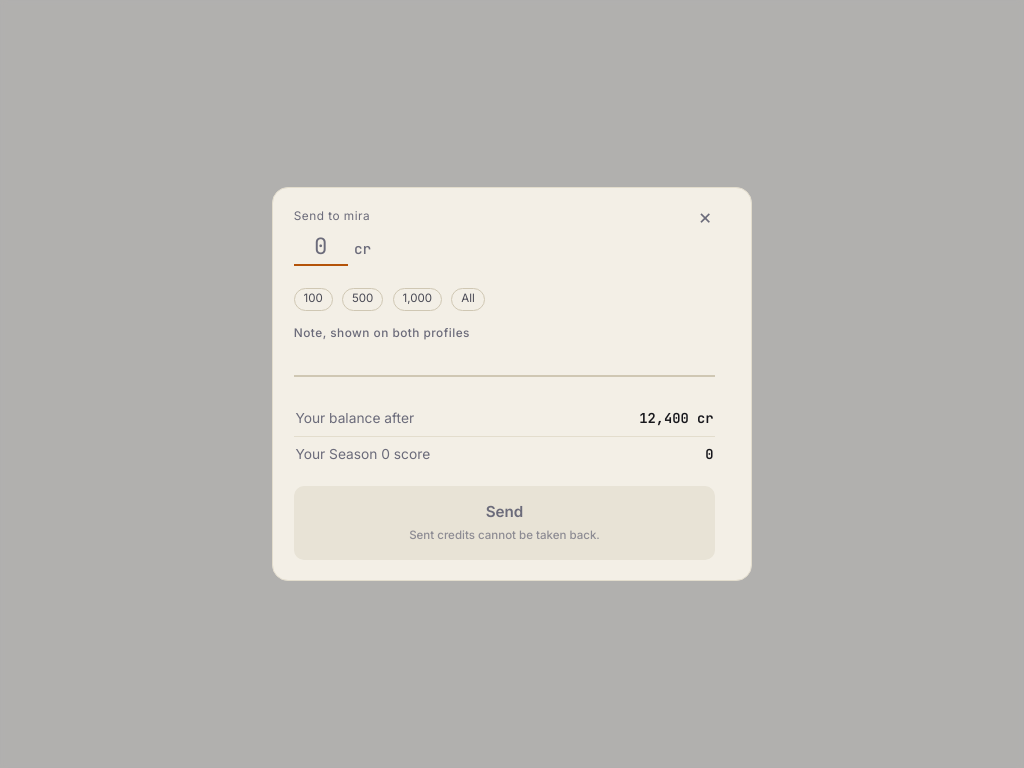
it: the send ticket › the whole balance, to the credit, can be sent
Expected: the text with test id "send-balance-after" reads "12,400 cr", left=639, top=409, right=714, bottom=427
Type "12400" into the field named "Amount in credits". click: (321, 248)
box: left=294, top=230, right=348, bottom=266
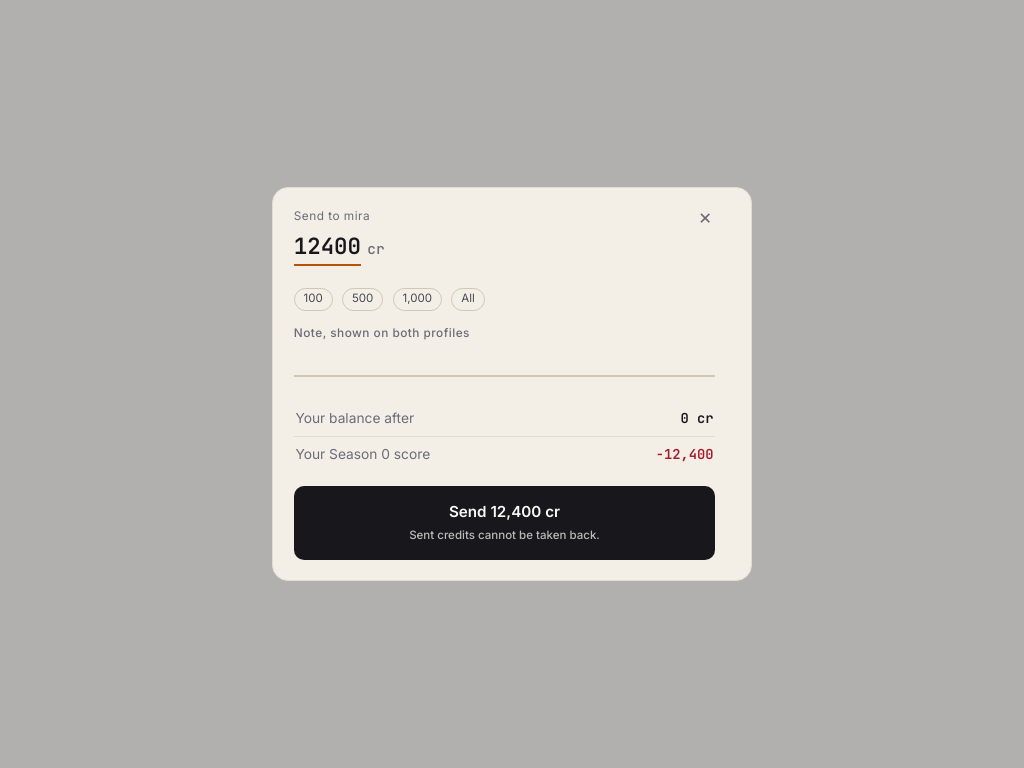
Expected: the text with test id "send-balance-after" reads "0 cr", left=681, top=409, right=714, bottom=427
Now the button with test id "send-credits-submit" is enabled, box left=294, top=486, right=715, bottom=560
